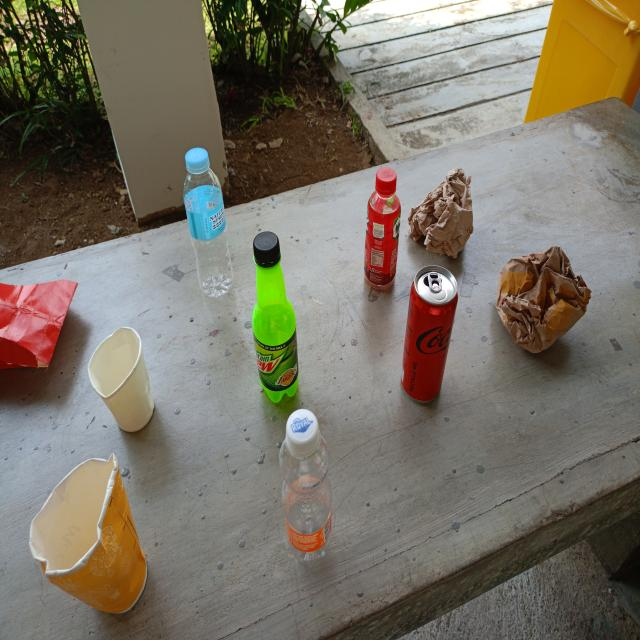Anorganik: (277, 408, 336, 570), (248, 230, 302, 406), (398, 260, 461, 409), (181, 144, 236, 298), (363, 165, 402, 292)
Organik: (24, 444, 153, 618), (495, 242, 594, 358), (0, 277, 81, 378), (86, 324, 156, 435), (407, 165, 476, 262)
